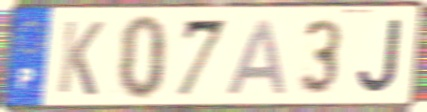0: (112, 13, 171, 103)
3: (297, 17, 344, 96)
7: (175, 17, 230, 99)
A: (223, 17, 290, 97)
J: (355, 17, 404, 96)
K: (55, 18, 106, 99)
